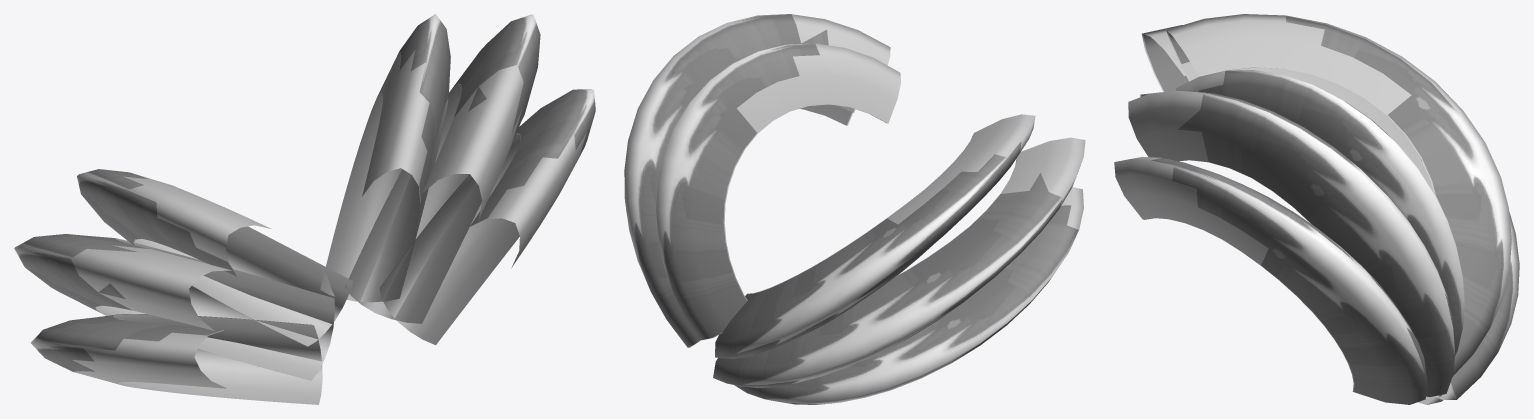
The model's file is fx_m10307_skill01.fbx.
3 renders of one model, left to right at view 1: azimuth 30°, elevation 25°; view 2: azimuth 150°, elevation 25°; view 3: azimuth 270°, elevation 25°, orthographic. The views are drawn at different scales.
Visible parts, largest first — view 1: trail_alpha, trail_R_alpha, trail_R_add, trail_add; view 2: trail_R_add, trail_add, trail_alpha, trail_R_alpha; view 3: trail_add, trail_R_add, trail_R_alpha, trail_alpha.
Boxes of the visible parts, x1,y1,x2,y2 form: trail_alpha: (320,50,586,345); trail_R_alpha: (71,175,353,404); trail_R_add: (14,169,311,371); trail_add: (354,14,595,296); trail_R_add: (713,136,1078,404); trail_add: (624,14,886,347); trail_alpha: (688,14,900,347); trail_R_alpha: (745,114,1085,295); trail_add: (1144,70,1464,404); trail_R_add: (1141,15,1519,404); trail_R_alpha: (1140,14,1456,404); trail_alpha: (1114,70,1427,402).
Size of the model in its own units: 615 by 434 by 464.
